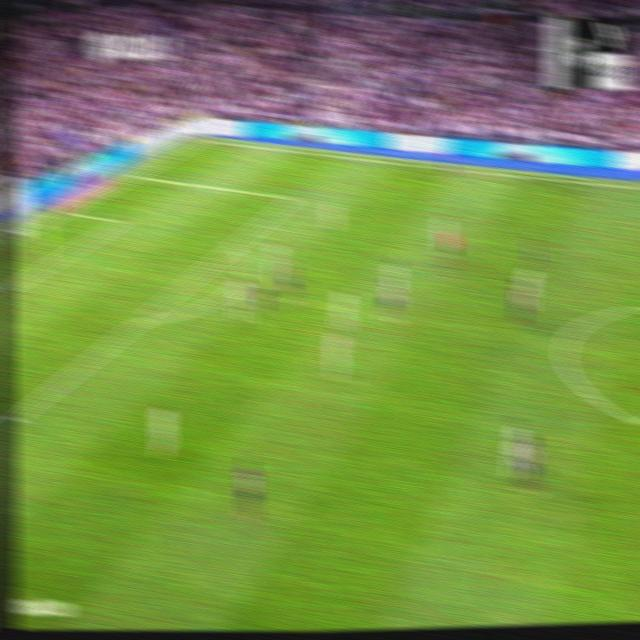bigarea_bottom_inner: (5, 405, 25, 432)
bigarea_top_inner: (286, 190, 300, 205)
bigarea_top_outter: (127, 166, 144, 181)
bottom_arc_area_intersection: (131, 309, 150, 329)
corner: (192, 134, 208, 145)
smallarea_top_inner: (112, 212, 130, 228)
top_arc_area_intersection: (225, 236, 242, 253)
